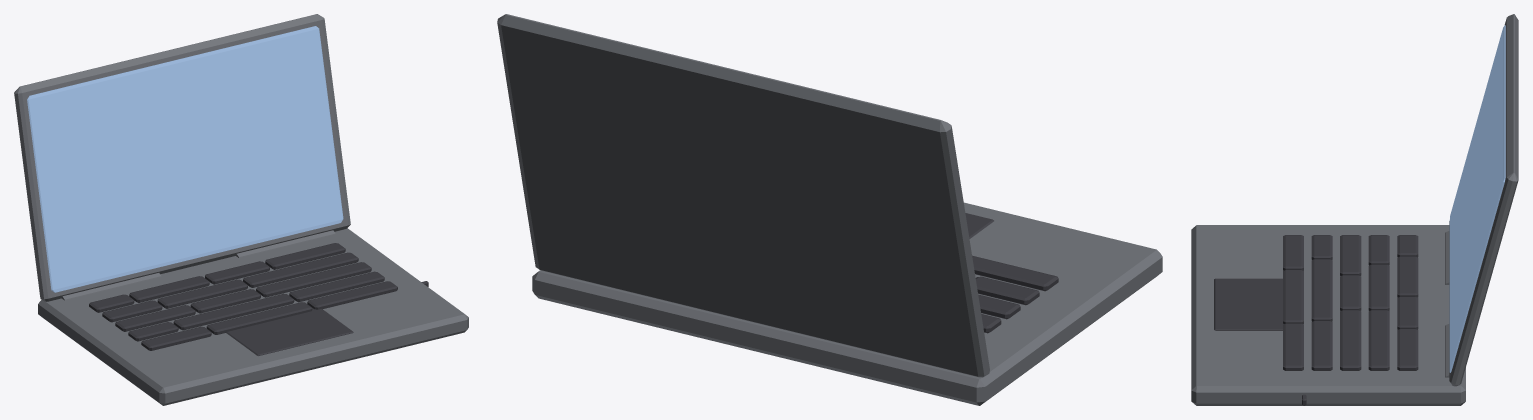
The model's file is computers-and-desk-gadgets-laptop-open-14-graphite-d28918e7__38820.glb.
3 renders of one model, left to right at view 1: azimuth 30°, elevation 25°; view 2: azimuth 150°, elevation 25°; view 3: azimuth 270°, elevation 25°, orthographic. The views are drawn at different scales.
Parts seen in each view (by area): view 1: laptop-open-14-graphite; view 2: laptop-open-14-graphite; view 3: laptop-open-14-graphite.
Boxes of the visible parts, x1=… form: laptop-open-14-graphite: x1=14, y1=14, x2=468, y2=405; laptop-open-14-graphite: x1=497, y1=14, x2=1162, y2=405; laptop-open-14-graphite: x1=1191, y1=14, x2=1518, y2=405.
Size of the model in its own units: 0.329 by 0.2129 by 0.2681.
